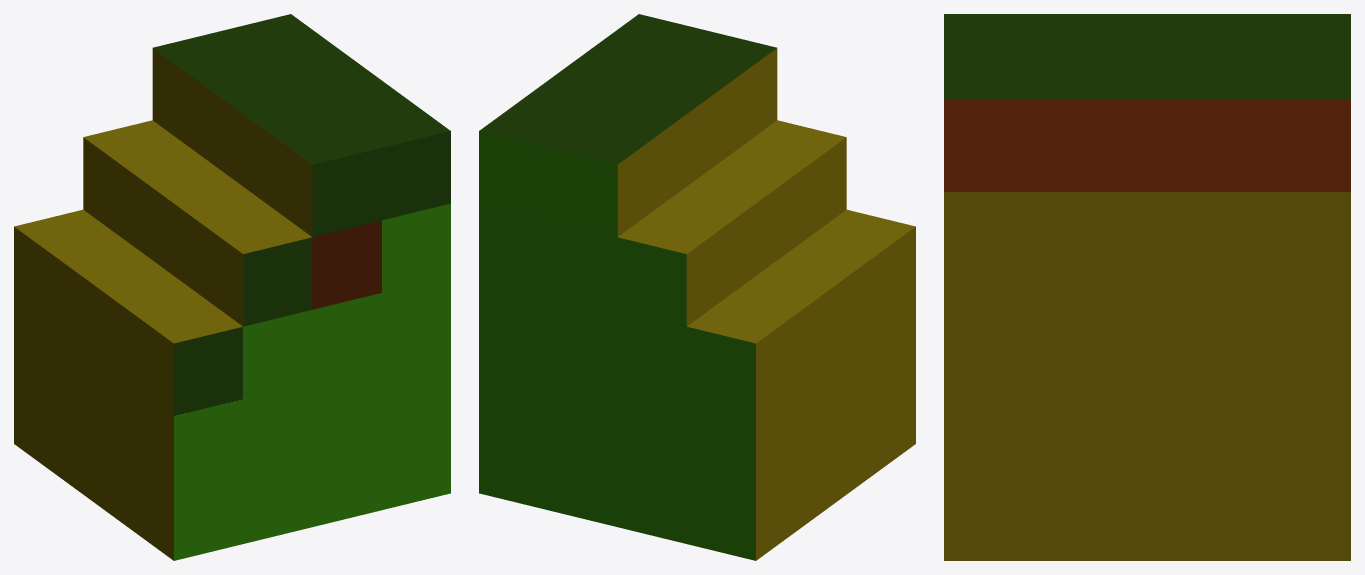
Rendered from block_23.fbx.
3 renders of one model, left to right at view 1: azimuth 30°, elevation 25°; view 2: azimuth 150°, elevation 25°; view 3: azimuth 270°, elevation 25°, orthographic. The views are drawn at different scales.
Parts seen in each view (by area): view 1: box.008; view 2: box.008; view 3: box.008.
Boxes of the visible parts, x1,y1,x2,y2 form: box.008: [14, 14, 450, 560]; box.008: [479, 14, 915, 560]; box.008: [944, 14, 1350, 560].
Size of the model in its own units: 400 by 500 by 400.
